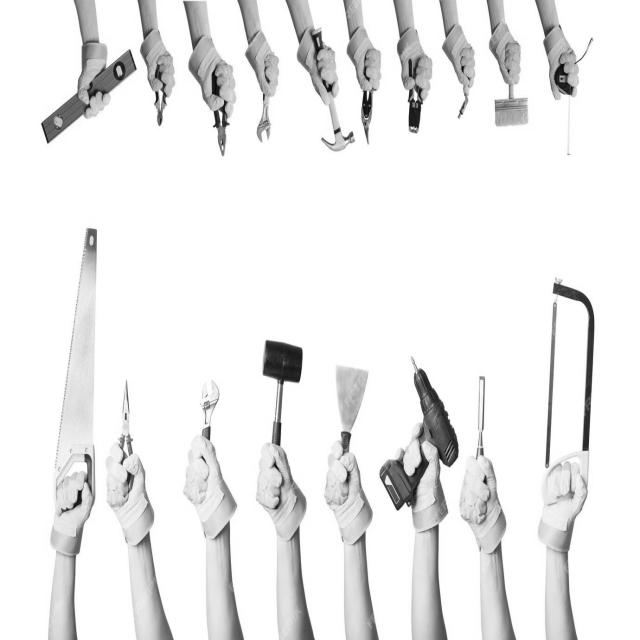brush: (478, 64, 541, 144)
chisel: (475, 366, 492, 457)
corless_drill: (371, 336, 456, 520)
golves: (528, 463, 604, 565), (177, 436, 242, 538), (253, 434, 309, 546), (39, 473, 98, 575), (392, 438, 451, 539), (102, 447, 158, 551), (457, 457, 512, 557), (322, 447, 374, 544), (186, 34, 238, 128), (538, 30, 590, 110), (290, 28, 340, 111), (390, 24, 438, 108), (134, 27, 180, 105), (80, 40, 118, 124), (245, 30, 284, 102), (488, 24, 529, 92), (442, 22, 478, 98), (349, 27, 385, 100)
hammer: (298, 13, 354, 165), (257, 327, 313, 442)
level: (31, 35, 146, 161)
measuring_tape: (549, 60, 587, 155)
pliers: (110, 358, 153, 515), (192, 55, 240, 174), (398, 54, 439, 139), (356, 60, 388, 149), (149, 62, 178, 131)
saw: (45, 214, 103, 527), (538, 259, 605, 507)
trowel: (336, 362, 371, 456)
wrench: (250, 60, 287, 162), (194, 359, 227, 445)
